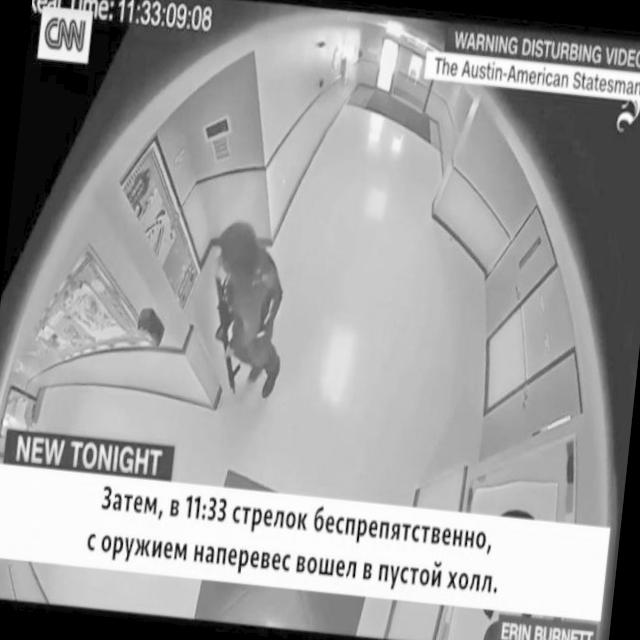gun: (198, 270, 250, 395)
person with a gun: (203, 213, 302, 404)
